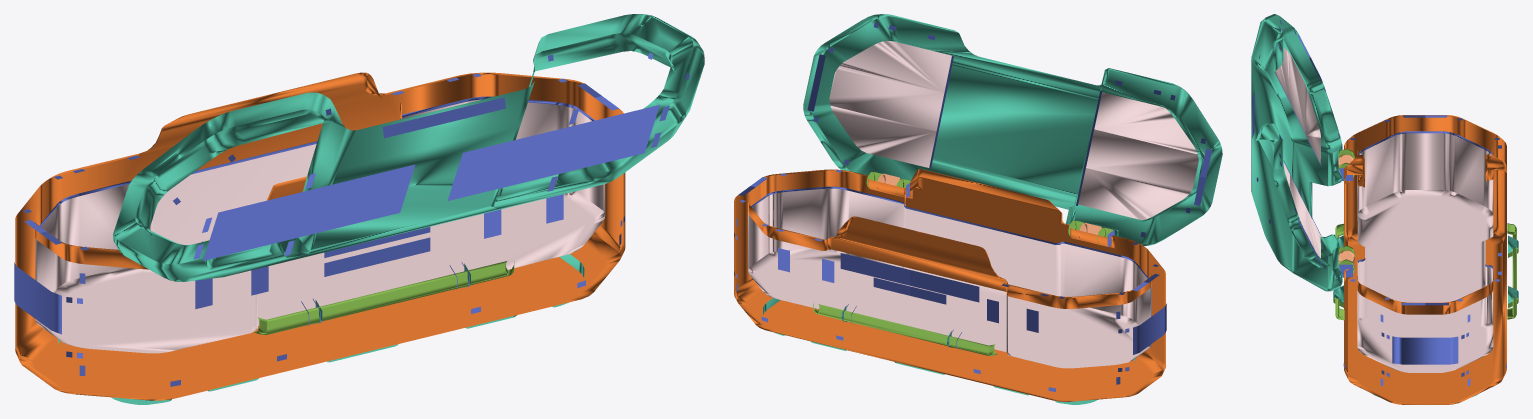
File: crate_metal_1_open_0125x0635x0625_a.glb
3 renders of one model, left to right at view 1: azimuth 30°, elevation 25°; view 2: azimuth 150°, elevation 25°; view 3: azimuth 270°, elevation 25°, orthographic. The views are drawn at different scales.
Size of the model in its own units: 1.76 by 1 by 1.03.
